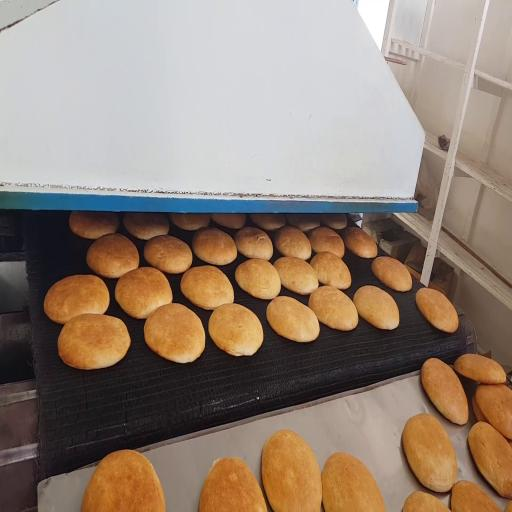bread: (82, 450, 165, 511), (262, 430, 322, 511), (402, 413, 457, 492), (58, 314, 130, 369), (322, 453, 385, 511), (144, 304, 205, 363), (199, 458, 266, 511), (468, 422, 511, 498), (44, 275, 109, 324), (421, 358, 468, 424), (115, 267, 172, 319), (208, 304, 263, 356), (267, 296, 319, 342), (87, 233, 139, 278), (181, 266, 233, 310), (309, 286, 358, 330), (353, 285, 399, 329), (476, 384, 511, 438), (144, 235, 192, 274), (416, 288, 458, 332), (235, 259, 281, 299), (192, 228, 237, 265), (274, 257, 318, 294), (454, 354, 506, 383), (311, 252, 351, 289), (451, 481, 500, 511), (69, 211, 119, 239), (372, 257, 412, 292), (235, 227, 273, 260), (275, 226, 311, 260), (124, 213, 169, 240), (308, 227, 344, 258), (343, 228, 377, 258), (403, 492, 449, 511), (170, 213, 210, 230), (286, 214, 319, 231), (211, 213, 246, 229), (251, 214, 285, 230), (472, 394, 488, 422), (321, 214, 347, 229), (505, 502, 511, 511)
